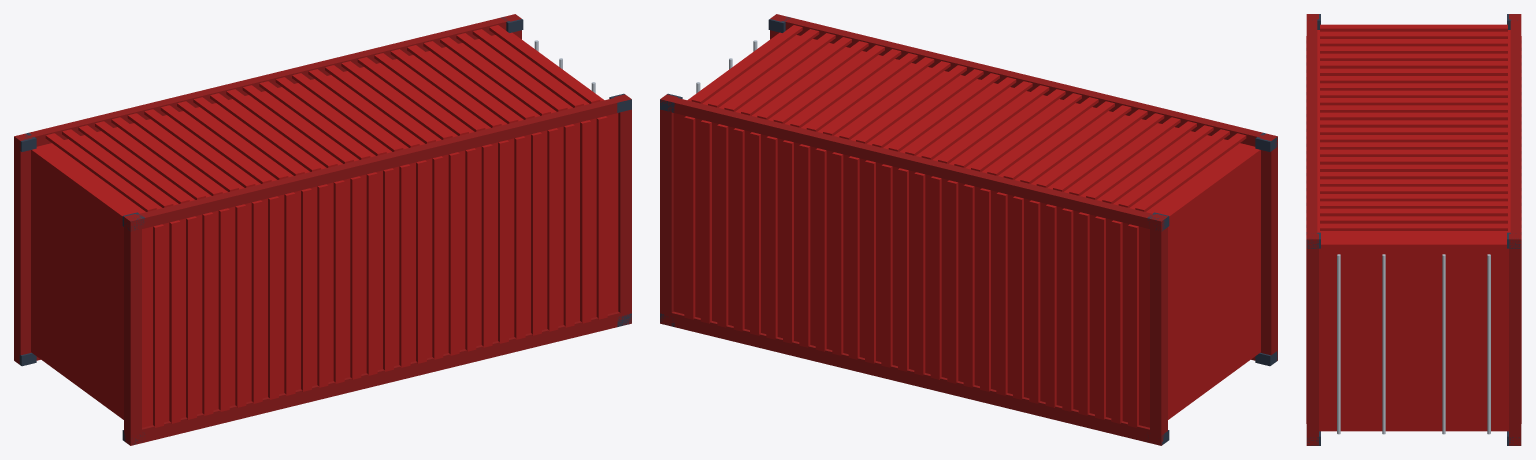
The model's file is container_20ft.glb.
3 views of the same model, side by side, from view 1: azimuth 30°, elevation 25°; view 2: azimuth 150°, elevation 25°; view 3: azimuth 270°, elevation 25° (orthographic). The views are drawn at different scales.
Visible parts, largest first — view 1: Container_20ft_ISO668; view 2: Container_20ft_ISO668; view 3: Container_20ft_ISO668.
Part boxes in pixels (x1,y1,x2,y2): Container_20ft_ISO668: [14, 14, 631, 445]; Container_20ft_ISO668: [660, 14, 1277, 445]; Container_20ft_ISO668: [1306, 14, 1521, 445].
Size of the model in its own units: 6.12 by 2.59 by 2.44.
